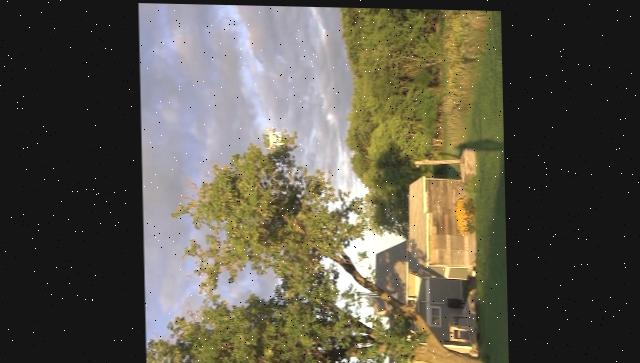drone: (264, 124, 282, 149)
